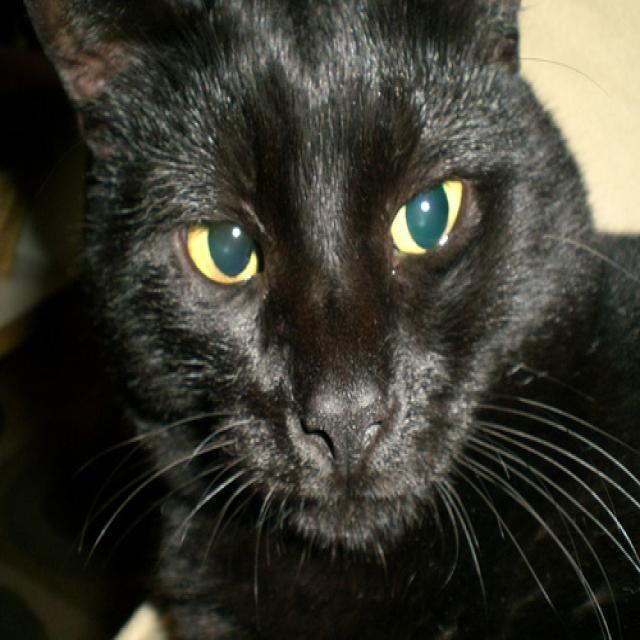Bombay: (18, 0, 628, 556)
